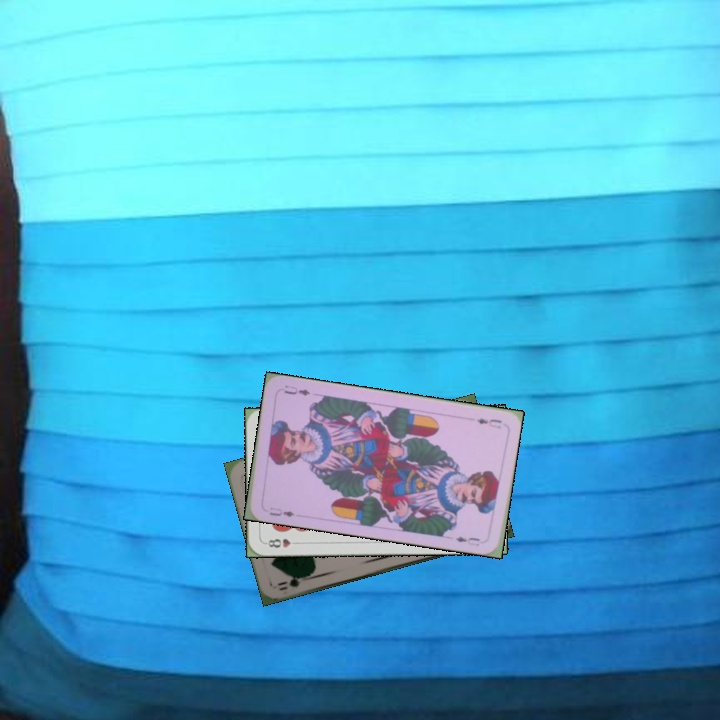EU: (265, 503, 300, 520), (473, 414, 504, 431)
GO: (273, 571, 313, 593)
H8: (261, 535, 302, 550)
